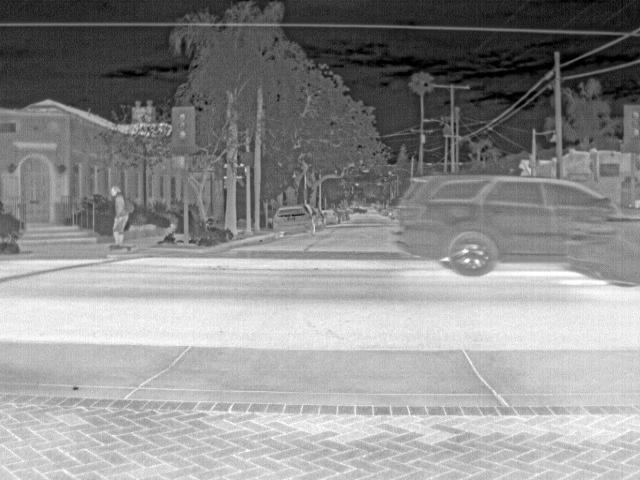car: (394, 176, 618, 276), (565, 214, 640, 289), (273, 205, 315, 237), (312, 206, 326, 229), (324, 208, 340, 225), (334, 206, 350, 223), (348, 206, 368, 216)
person: (110, 183, 131, 250)
